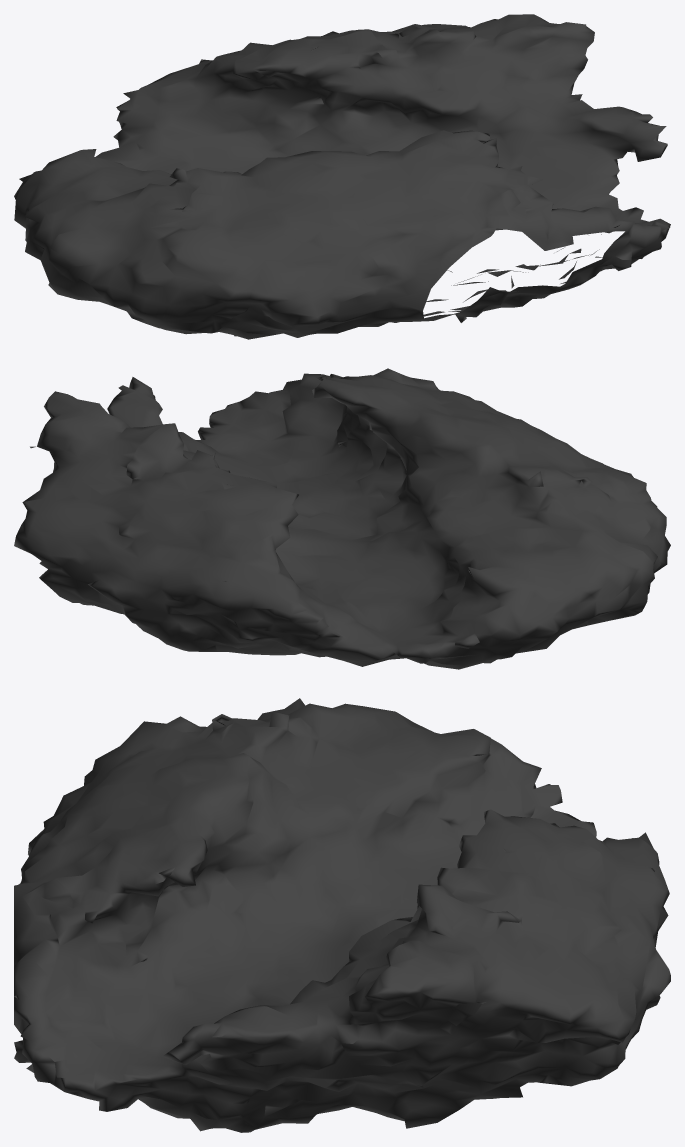
The model's file is reclining-0.glb.
The picture shows the model from 3 angles, top to bottom: view 1: azimuth 30°, elevation 25°; view 2: azimuth 150°, elevation 25°; view 3: azimuth 270°, elevation 25°; orthographic projection. The views are drawn at different scales.
Visible parts, largest first — view 1: geometry_0; view 2: geometry_0; view 3: geometry_0.
Boxes of the visible parts, left/top/right/bottom form: geometry_0: left=14, top=14, right=670, bottom=339; geometry_0: left=14, top=368, right=670, bottom=669; geometry_0: left=14, top=698, right=670, bottom=1132.
Size of the model in its own units: 3.18 by 1 by 2.48.
Materials: 1 (1 with a texture image).
